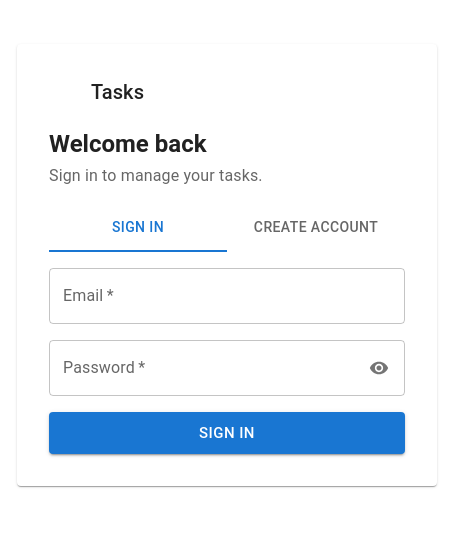
Test: LoginForm › shows the API error message on a failed login
Type "ana@example.com" into the field labelled "Email *" at (227, 296), box [49, 268, 405, 324]
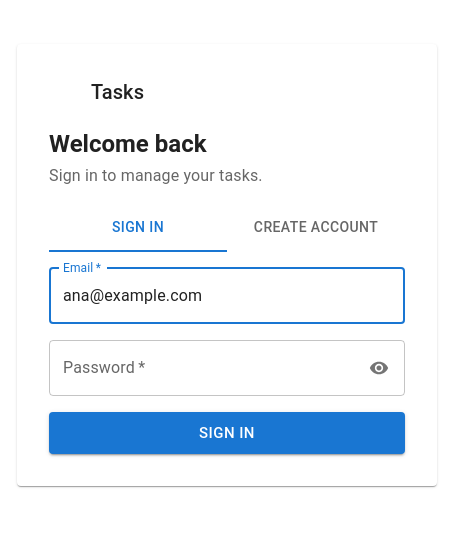
Type "wrong" into the password field labelled "Password *" at (202, 368), box [49, 340, 356, 396]
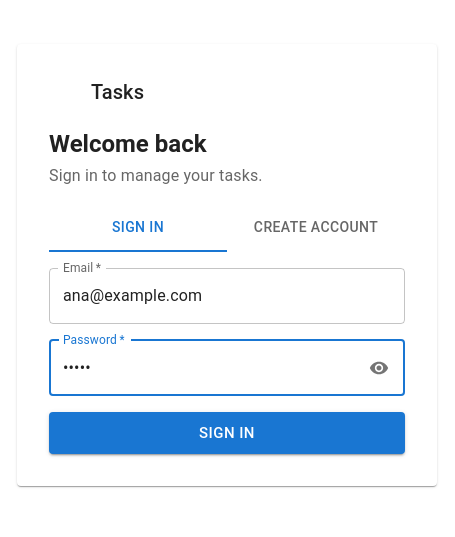
Click the button "Sign in" at (227, 433), box [49, 412, 405, 454]
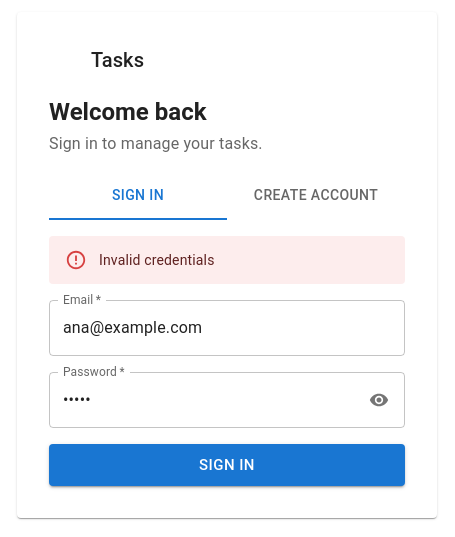
Now the text "Invalid credentials" is shown, box [99, 252, 214, 268]
